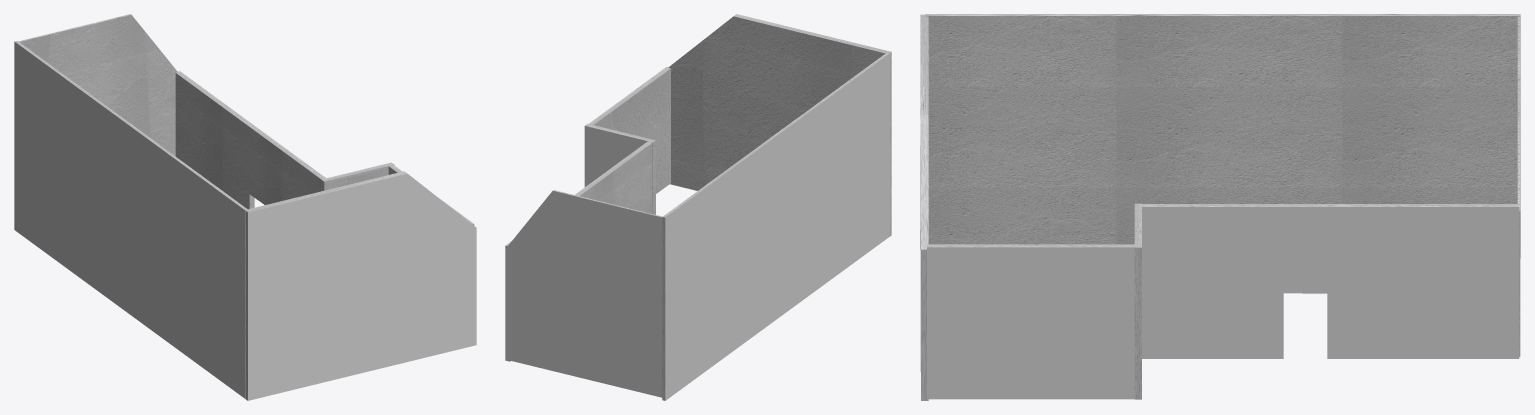
Rendered from LibraryShellOriginal.fbx.
3 views of the same model, side by side, from view 1: azimuth 30°, elevation 25°; view 2: azimuth 150°, elevation 25°; view 3: azimuth 270°, elevation 25° (orthographic). The views are drawn at different scales.
Visible parts, largest first — view 1: Cube.044; view 2: Cube.044; view 3: Cube.044.
Boxes of the visible parts, x1=… form: Cube.044: x1=14, y1=14, x2=476, y2=400; Cube.044: x1=505, y1=14, x2=891, y2=400; Cube.044: x1=920, y1=14, x2=1520, y2=400.
Bounding box in the file's own units: 2467 × 1937 × 4333.
